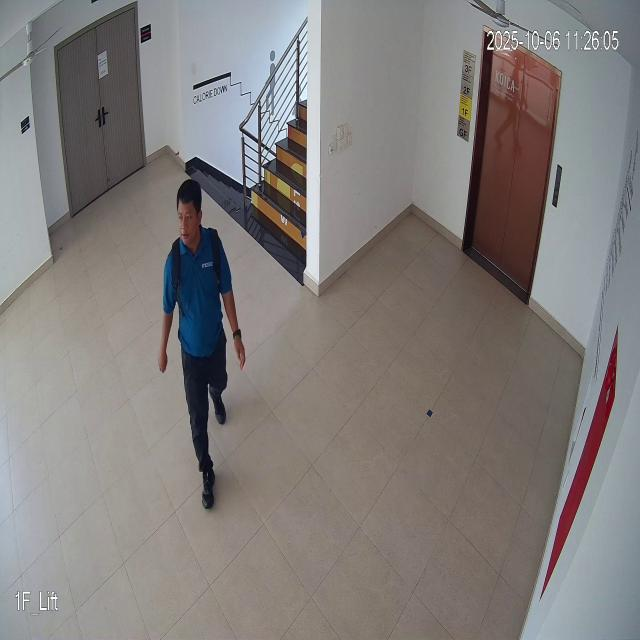face: (176, 175, 206, 252)
